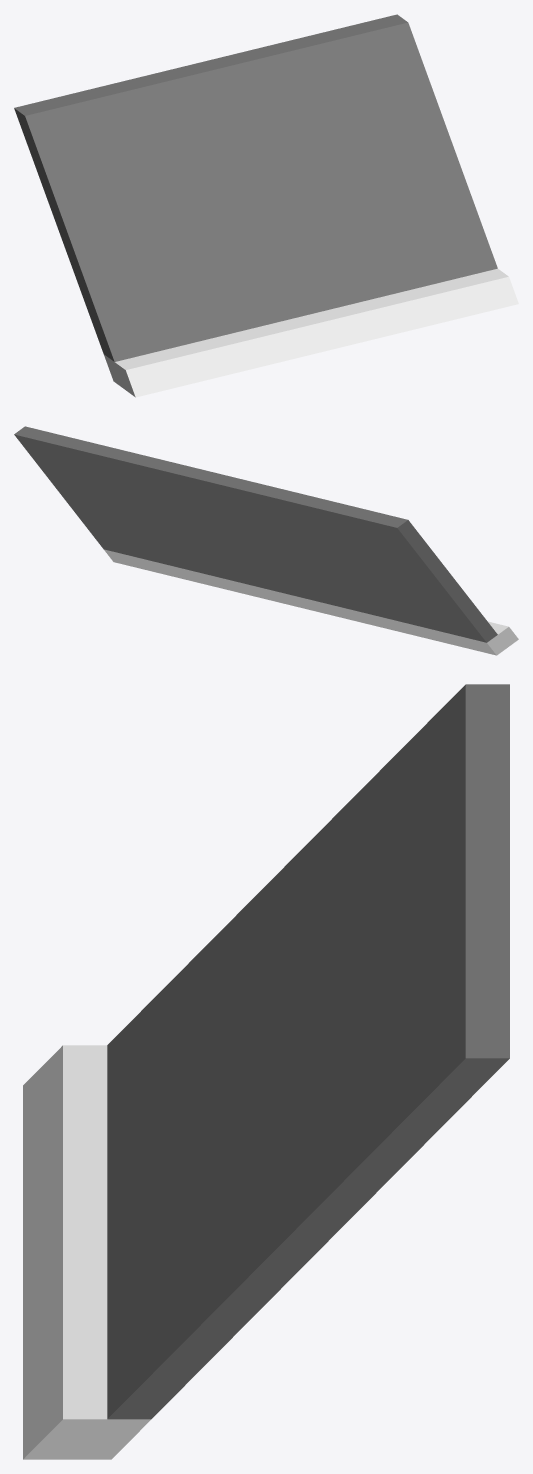
File: RoofSlope.glb
3 renders of one model, top to bottom at view 1: azimuth 30°, elevation 25°; view 2: azimuth 150°, elevation 25°; view 3: azimuth 270°, elevation 25°, orthographic. The views are drawn at different scales.
Parts seen in each view (by area): view 1: RoofSlope; view 2: RoofSlope; view 3: RoofSlope.
Part boxes in pixels (x1=…): RoofSlope: x1=14, y1=14, x2=518, y2=397; RoofSlope: x1=14, y1=426, x2=518, y2=655; RoofSlope: x1=23, y1=684, x2=509, y2=1459.
Bounding box in the file's own units: 2 × 1 × 1.1.
1 material, 1 textured.
